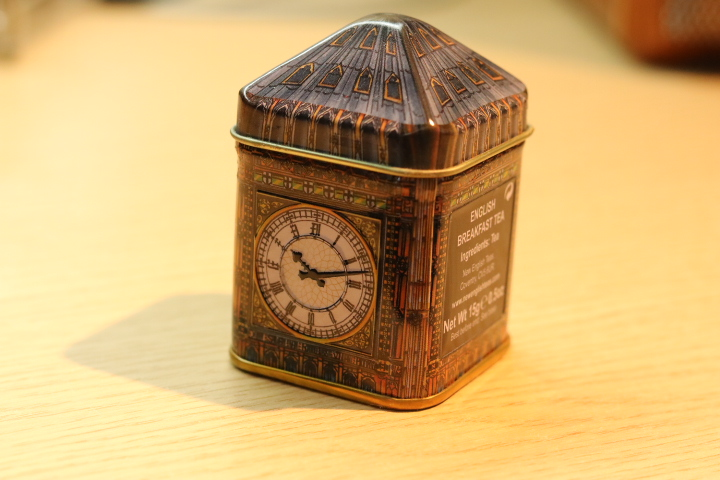Big Ben: (221, 8, 549, 417)
